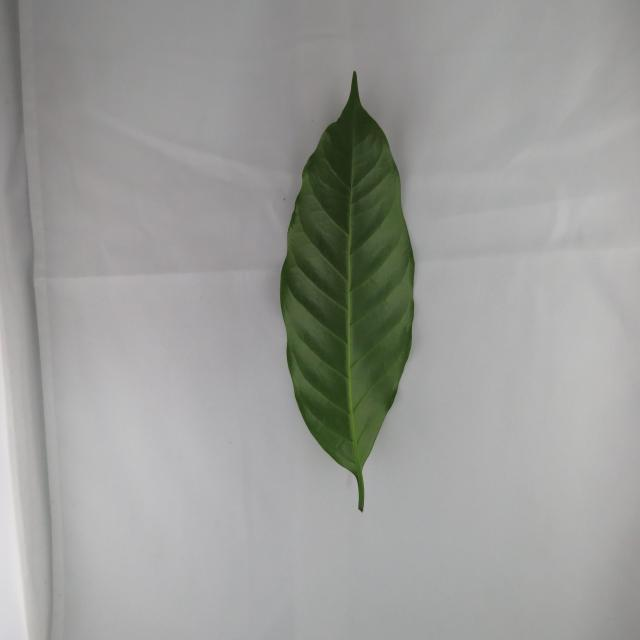DeficienciaNutricional-Calcio: (280, 73, 415, 512)
